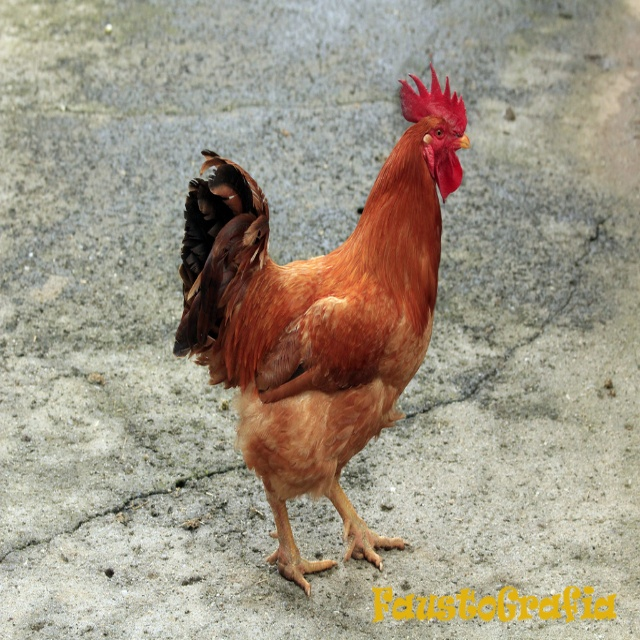Chicken: (173, 61, 471, 596)
